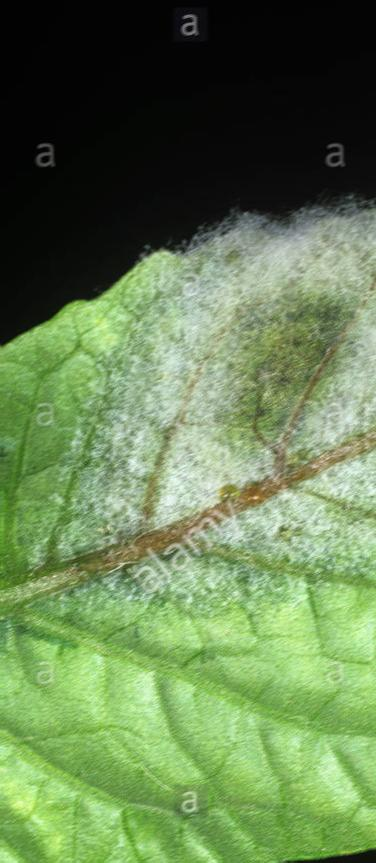Tomato leaf late blight: (0, 110, 376, 863)
